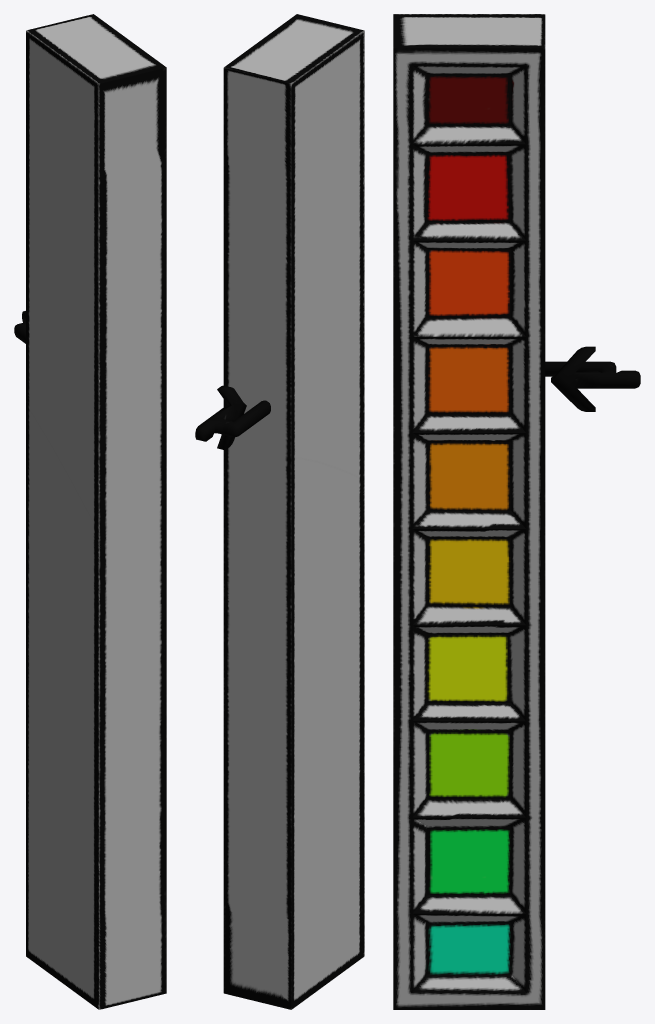
Rendered from Barre de son.fbx.
3 renders of one model, left to right at view 1: azimuth 30°, elevation 25°; view 2: azimuth 150°, elevation 25°; view 3: azimuth 270°, elevation 25°, orthographic. The views are drawn at different scales.
Visible parts, largest first — view 1: BARRE; view 2: BARRE, fleche; view 3: BARRE, fleche.
Part boxes in pixels (bbox=[...]): BARRE: bbox=[26, 14, 166, 1009]; BARRE: bbox=[223, 14, 364, 1009]; fleche: bbox=[195, 385, 270, 450]; BARRE: bbox=[393, 14, 545, 1009]; fleche: bbox=[545, 346, 640, 411].
Size of the model in its own units: 107 by 1396 by 325.
Materials: 1 (1 with a texture image).
